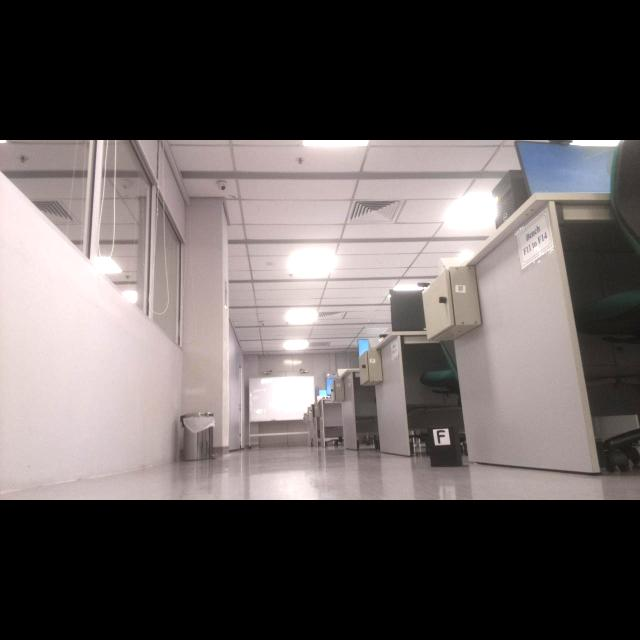F: (437, 430, 445, 444)
